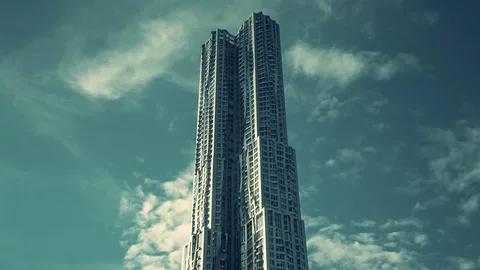high_rise_building: (196, 11, 307, 268)
